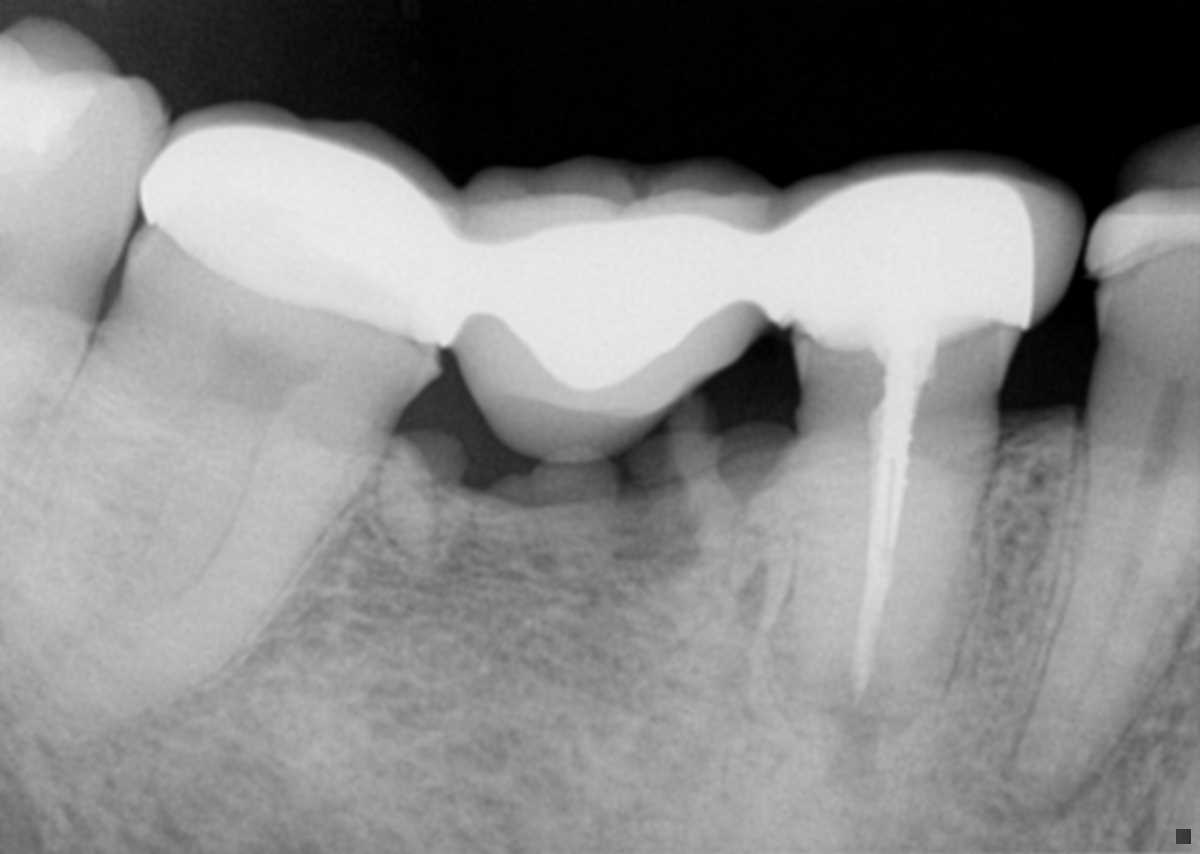Apical Lesion: (953, 768, 1098, 838)
Distal Root: (0, 344, 198, 679)
Main Canal: (1058, 444, 1175, 762)
Main Root: (786, 395, 999, 736), (0, 284, 90, 518)
Mesial Root: (25, 431, 372, 729)
Root Canal Filling: (853, 409, 916, 709)
